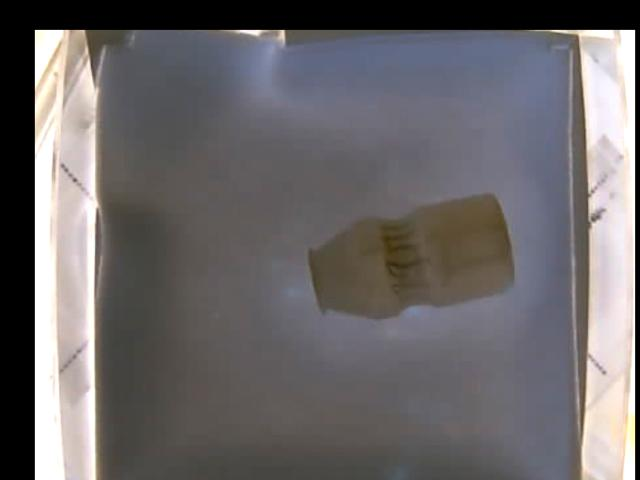Bottle: (310, 190, 511, 321)
